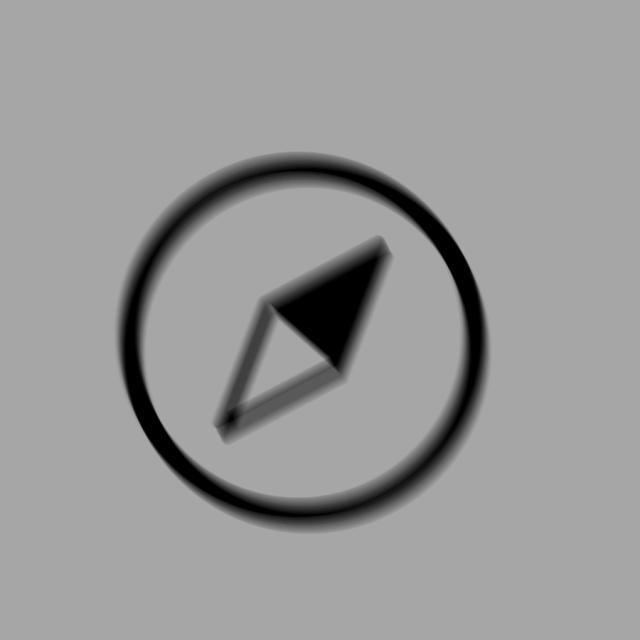compass: (109, 148, 495, 544)
